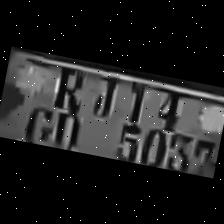0: (140, 122, 170, 165)
1: (117, 75, 154, 126)
3: (163, 128, 195, 172)
4: (154, 84, 186, 124)
5: (110, 118, 144, 161)
D: (48, 105, 83, 148)
G: (22, 101, 59, 144)
J: (84, 67, 123, 121)
R: (48, 60, 86, 116)
